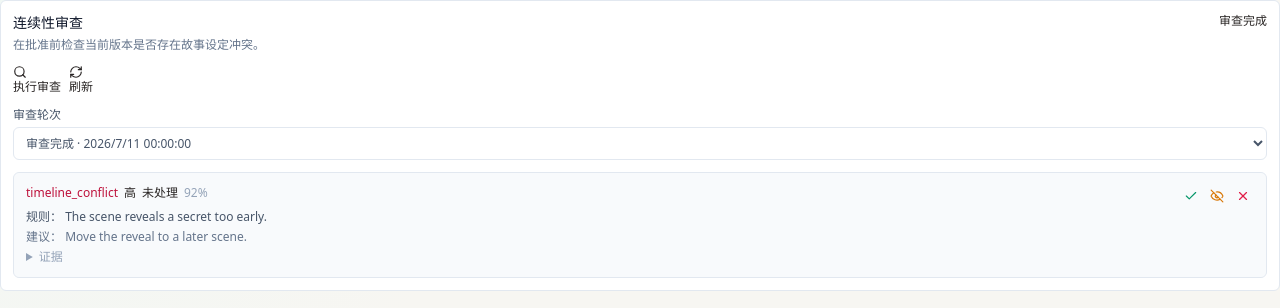
it: ReviewIssuePanel › updates an issue to ignored in the selected run and refetches it
The width and height of the screenshot is (1280, 308).
Click the button named "忽略问题": (1217,196) [1206,185,1228,207]
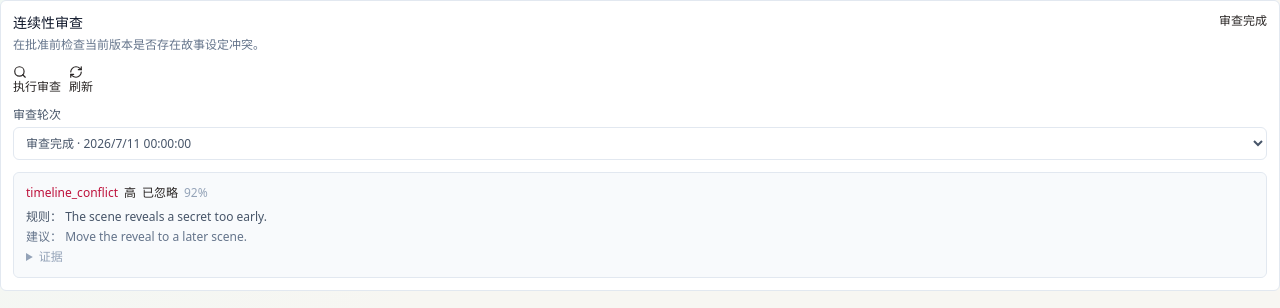
expect the text "已忽略" is shown: met, box [142,185,178,201]
